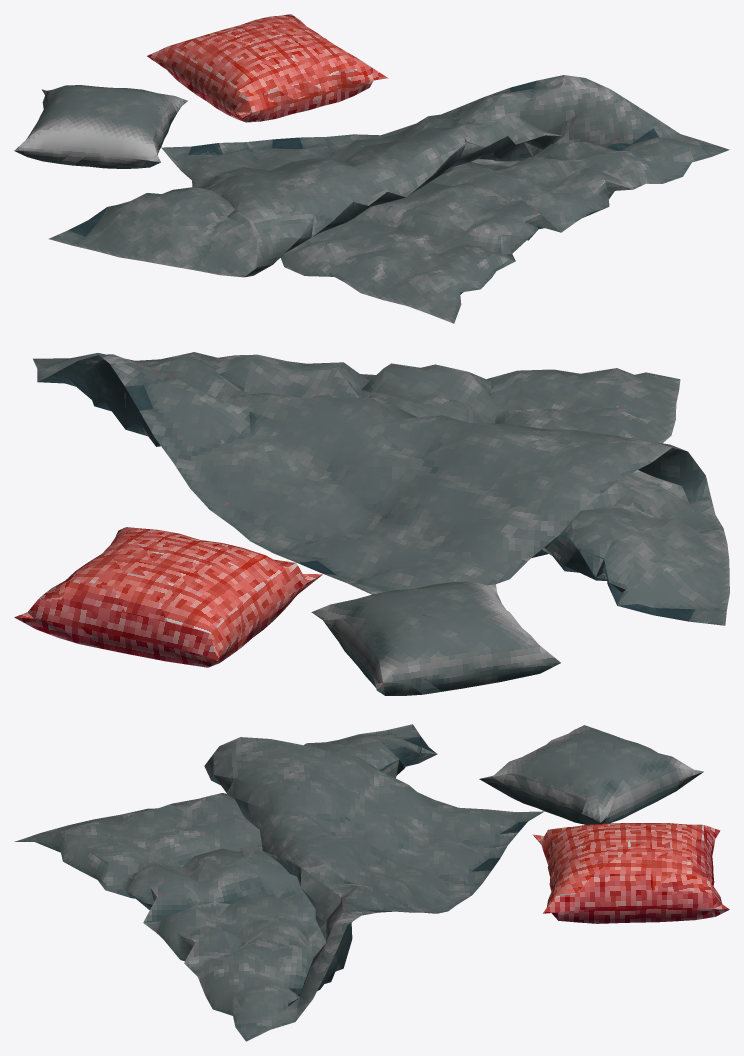
The model's file is picnic_blanket.glb.
3 views of the same model, one above another, from view 1: azimuth 30°, elevation 25°; view 2: azimuth 150°, elevation 25°; view 3: azimuth 270°, elevation 25° (orthographic). The views are drawn at different scales.
Visible parts, largest first — view 1: mesh; view 2: mesh; view 3: mesh.
Boxes of the visible parts, left/top/right/bottom form: mesh: left=14, top=14, right=729, bottom=323; mesh: left=14, top=352, right=729, bottom=695; mesh: left=14, top=724, right=729, bottom=1041.
Bounding box in the file's own units: 2.91 × 0.2998 × 2.79.
Materials: 1 (1 with a texture image).
